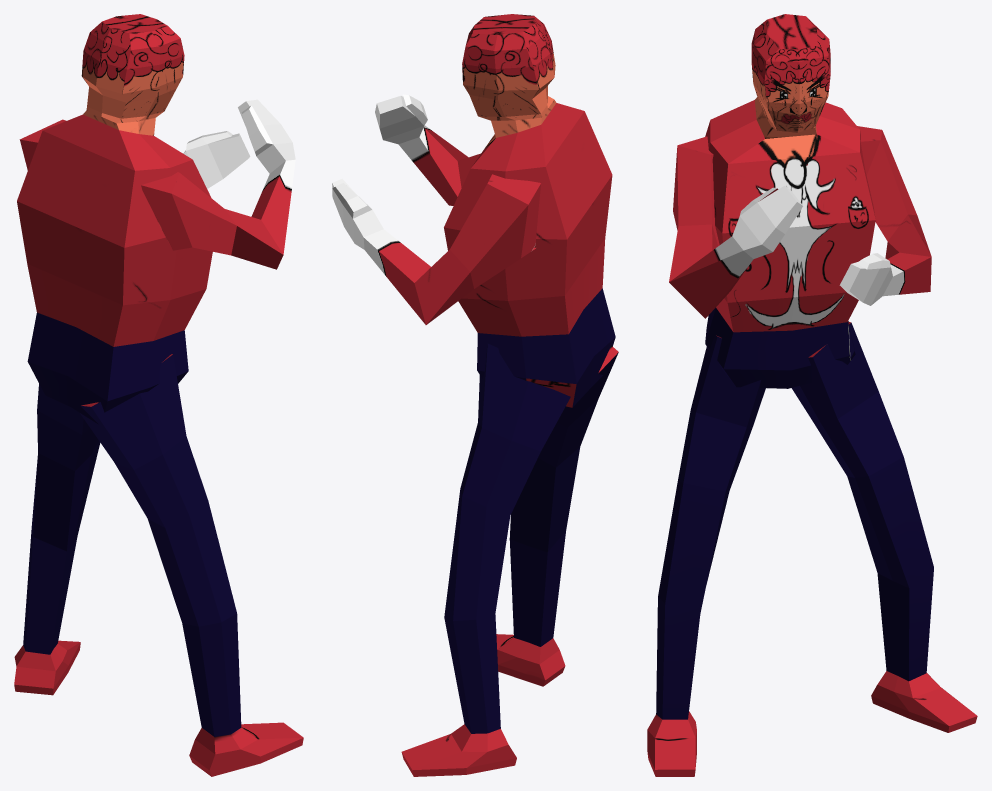
Rendered from Geant.fbx.
3 renders of one model, left to right at view 1: azimuth 30°, elevation 25°; view 2: azimuth 150°, elevation 25°; view 3: azimuth 270°, elevation 25°, orthographic.
Visible parts, largest first — view 1: Cube.001; view 2: Cube.001; view 3: Cube.001.
Part boxes in pixels (x1=…): Cube.001: x1=14, y1=14, x2=303, y2=776; Cube.001: x1=332, y1=14, x2=618, y2=776; Cube.001: x1=647, y1=14, x2=977, y2=776.
Bounding box in the file's own units: 150 × 433 × 182.
